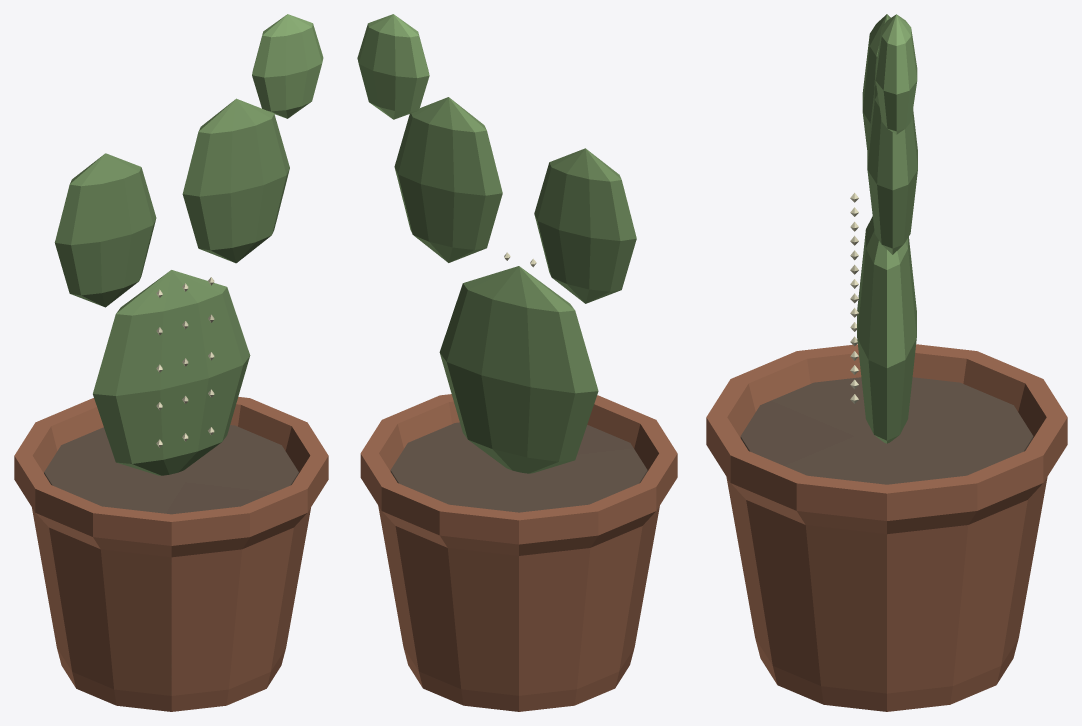
File: bunny.glb
3 views of the same model, side by side, from view 1: azimuth 30°, elevation 25°; view 2: azimuth 150°, elevation 25°; view 3: azimuth 270°, elevation 25° (orthographic). The views are drawn at different scales.
Parts seen in each view (by area): view 1: bunny/review-terra-vessel, bunny/flat-stem-pad-001, bunny/review-rooted-soil, bunny/flat-stem-pad-003, bunny/flat-stem-pad-002, bunny/flat-stem-pad-004; view 2: bunny/review-terra-vessel, bunny/flat-stem-pad-001, bunny/review-rooted-soil, bunny/flat-stem-pad-003, bunny/flat-stem-pad-002, bunny/flat-stem-pad-004; view 3: bunny/review-terra-vessel, bunny/review-rooted-soil, bunny/flat-stem-pad-001, bunny/flat-stem-pad-003, bunny/flat-stem-pad-004, bunny/flat-stem-pad-002.
Part boxes in pixels (x1=…): bunny/review-terra-vessel: x1=14, y1=397, x2=328, y2=711; bunny/flat-stem-pad-001: x1=93, y1=270, x2=250, y2=475; bunny/review-rooted-soil: x1=44, y1=425, x2=298, y2=514; bunny/flat-stem-pad-003: x1=182, y1=98, x2=289, y2=263; bunny/flat-stem-pad-002: x1=54, y1=153, x2=156, y2=307; bunny/flat-stem-pad-004: x1=252, y1=14, x2=323, y2=118; bunny/review-terra-vessel: x1=360, y1=394, x2=677, y2=711; bunny/flat-stem-pad-001: x1=439, y1=266, x2=598, y2=473; bunny/review-rooted-soil: x1=390, y1=422, x2=647, y2=512; bunny/flat-stem-pad-003: x1=394, y1=97, x2=502, y2=262; bunny/flat-stem-pad-002: x1=534, y1=148, x2=636, y2=303; bunny/flat-stem-pad-004: x1=357, y1=14, x2=429, y2=119; bunny/review-terra-vessel: x1=706, y1=344, x2=1067, y2=711; bunny/review-rooted-soil: x1=740, y1=377, x2=1033, y2=484; bunny/flat-stem-pad-001: x1=857, y1=216, x2=916, y2=443; bunny/flat-stem-pad-003: x1=867, y1=85, x2=917, y2=254; bunny/flat-stem-pad-004: x1=875, y1=14, x2=917, y2=134; bunny/flat-stem-pad-002: x1=862, y1=14, x2=890, y2=149.
Bounding box in the file's own units: 0.204 × 0.413 × 0.19.
4 materials, 4 textured.
